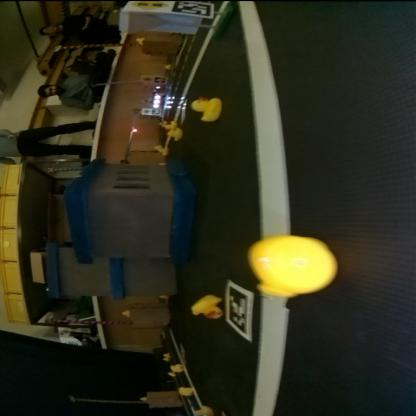Duckie: (246, 235, 336, 295), (191, 98, 221, 121), (191, 297, 221, 318), (193, 406, 212, 415), (168, 128, 180, 140), (178, 386, 192, 396), (169, 364, 181, 372), (158, 147, 166, 154), (166, 122, 174, 128)
Duckiebot: (152, 86, 164, 108)
QR code: (226, 280, 252, 340), (174, 1, 214, 17)
Signal sign: (127, 2, 168, 10)
